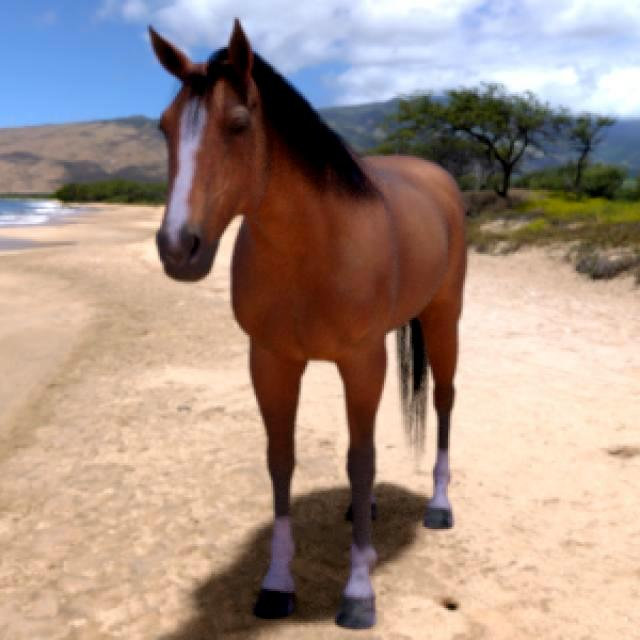horse: (151, 20, 466, 628)
